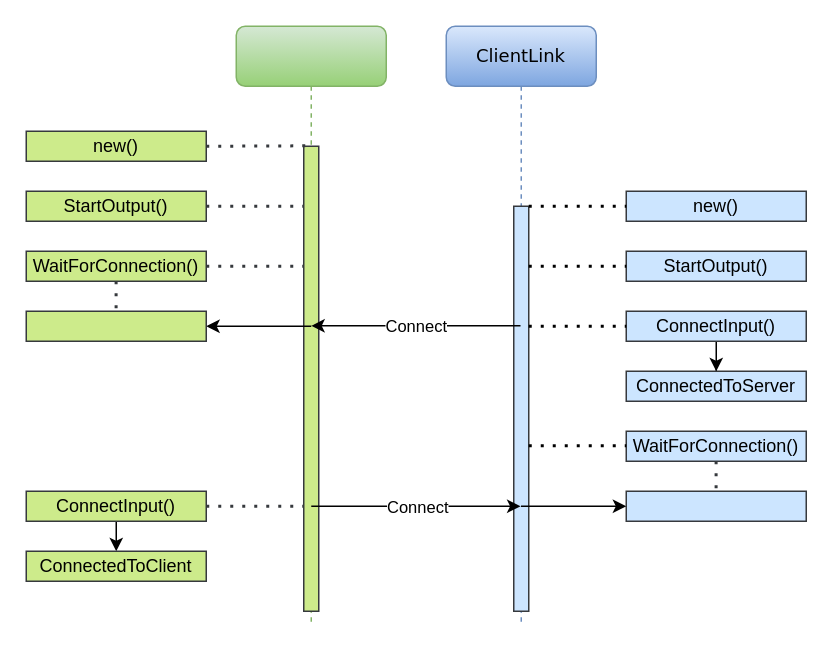
This 833x653 diagram has some shape labels left out. The shapes that lost their labels are listed below. From the top down, each one's centre as x and y in pixels, then its label:
point 115,325: ClientConnected
point 310,325: ServerLink
point 715,505: ServerConnected
